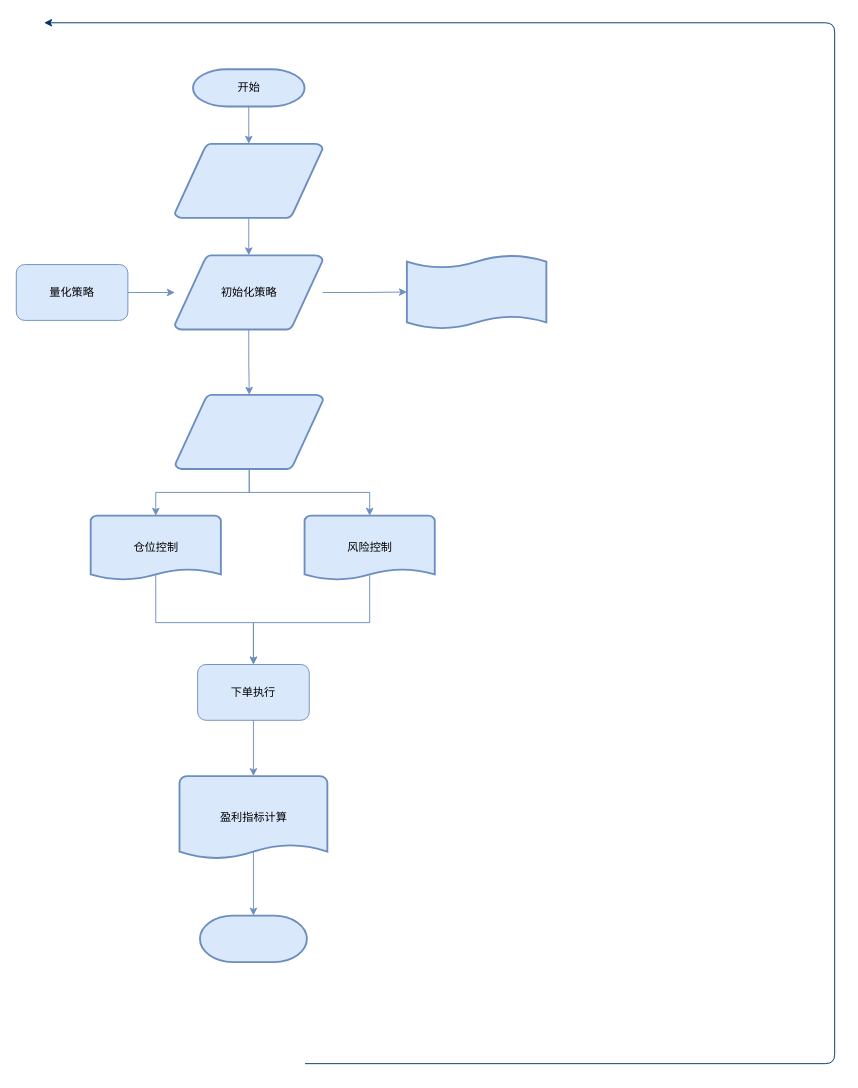
Some shapes in this 858 by 1088 pixel diagram are drawn without their labels. The centre of each missing label's shape, as x and y in pixels:
"实时数据" belongs at point 248,180.
"生成策略指标" belongs at point 476,291.
"结束" belongs at point 253,938.
"触发交易信号" belongs at point 249,431.
